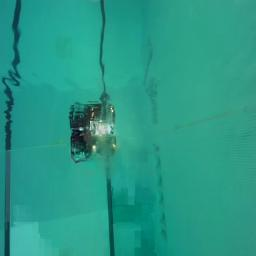front: (70, 129, 117, 163)
